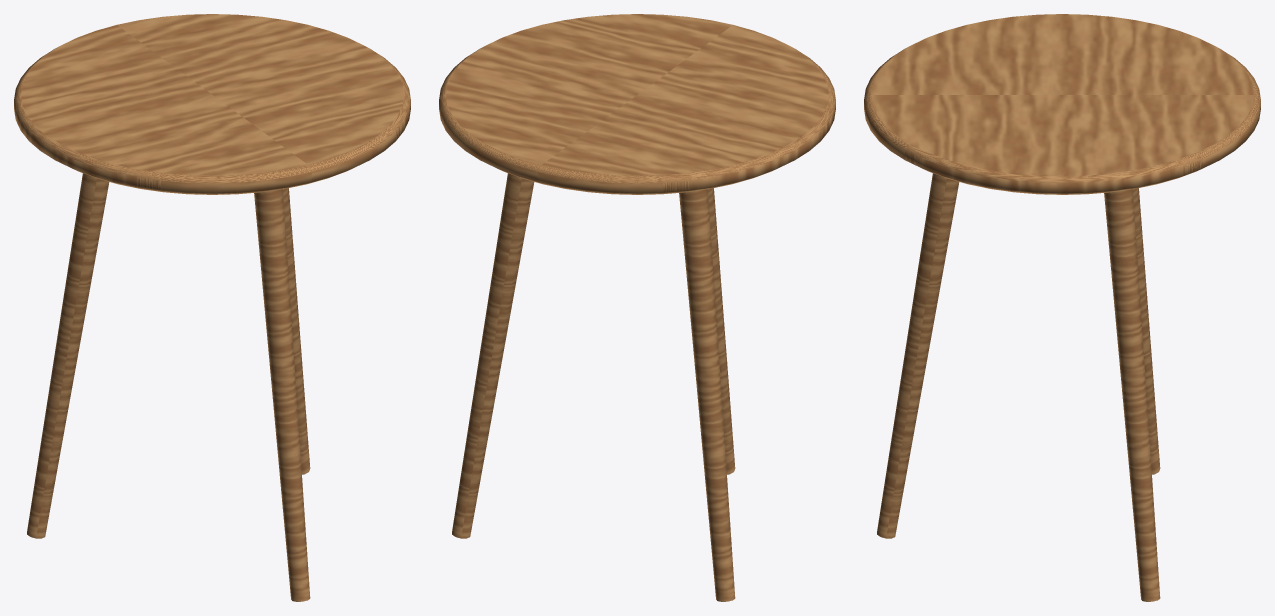
3 views of the same model, side by side, from view 1: azimuth 30°, elevation 25°; view 2: azimuth 150°, elevation 25°; view 3: azimuth 270°, elevation 25° (orthographic).
Visible parts, largest first — view 1: Side table, round; view 2: Side table, round; view 3: Side table, round.
Part boxes in pixels (box(x1,y1,x2,y2)): Side table, round: box(14, 14, 410, 601); Side table, round: box(439, 14, 835, 601); Side table, round: box(864, 14, 1260, 601).
Size of the model in its own units: 0.45 by 0.5516 by 0.45.
1 material, 1 textured.
